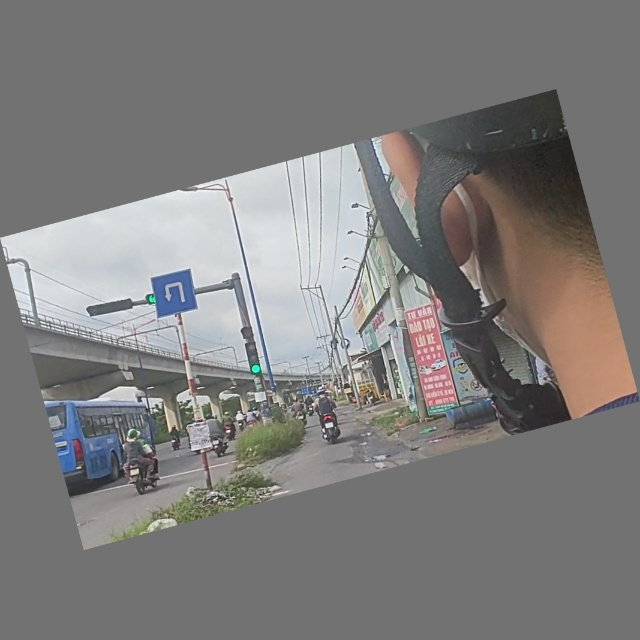I.409: (147, 261, 210, 328)
